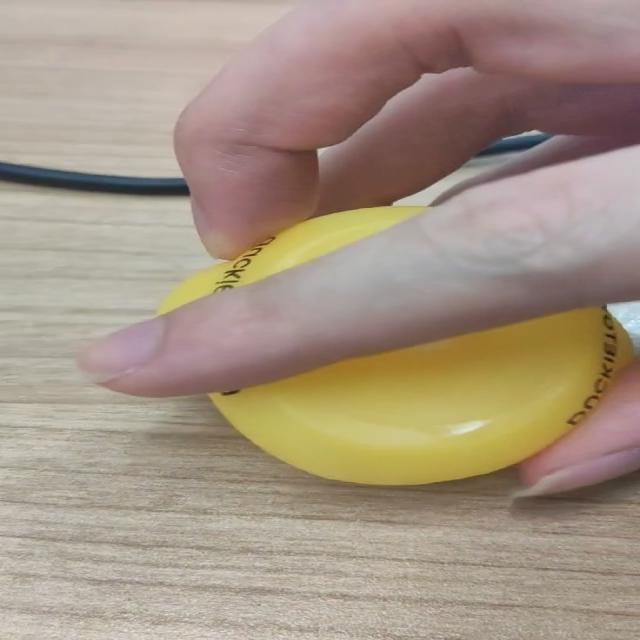rubber-duck: (209, 306, 630, 483), (157, 205, 424, 312)
